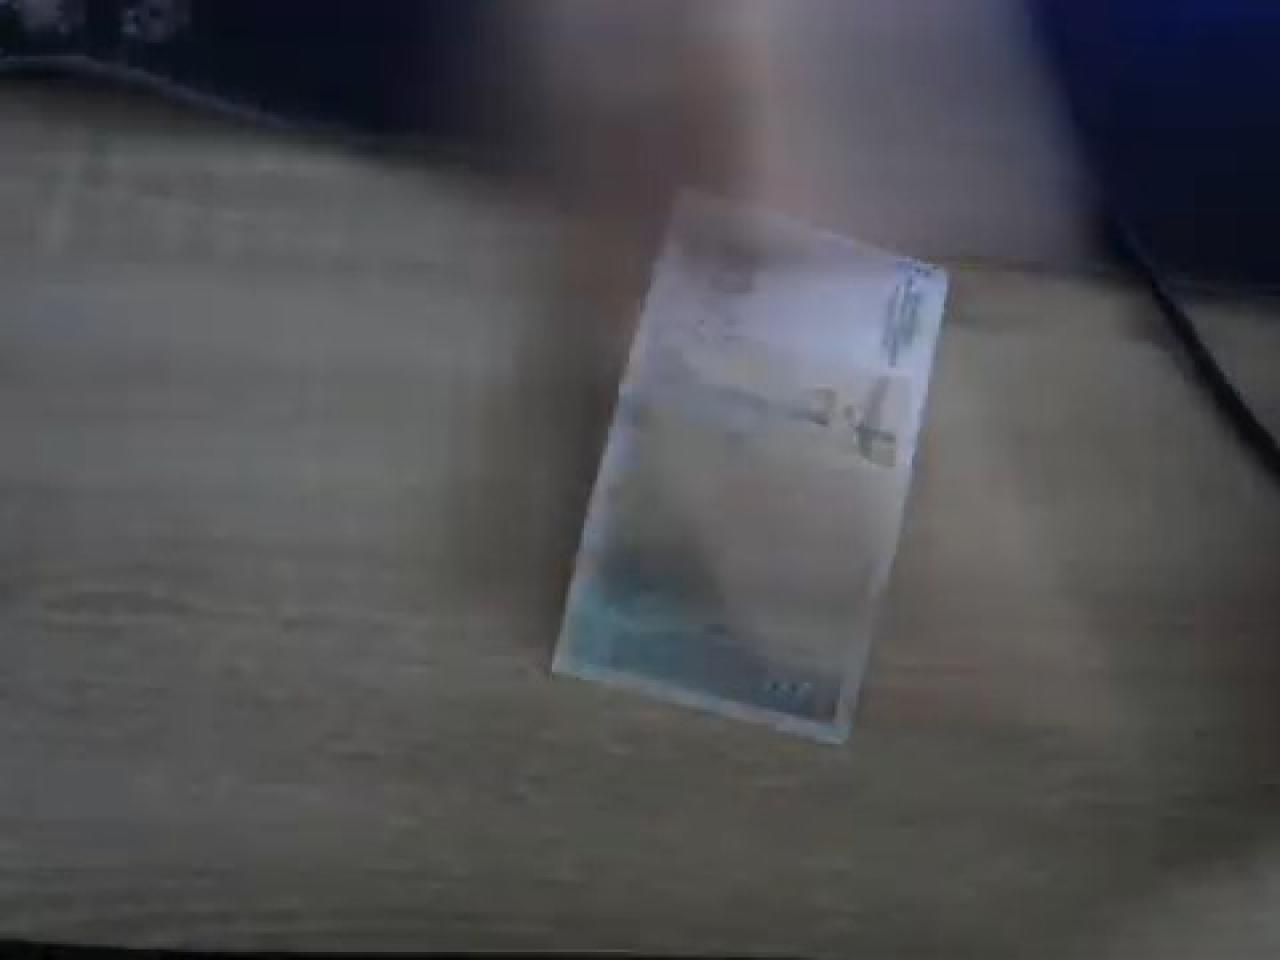20leva: (544, 185, 952, 747)
